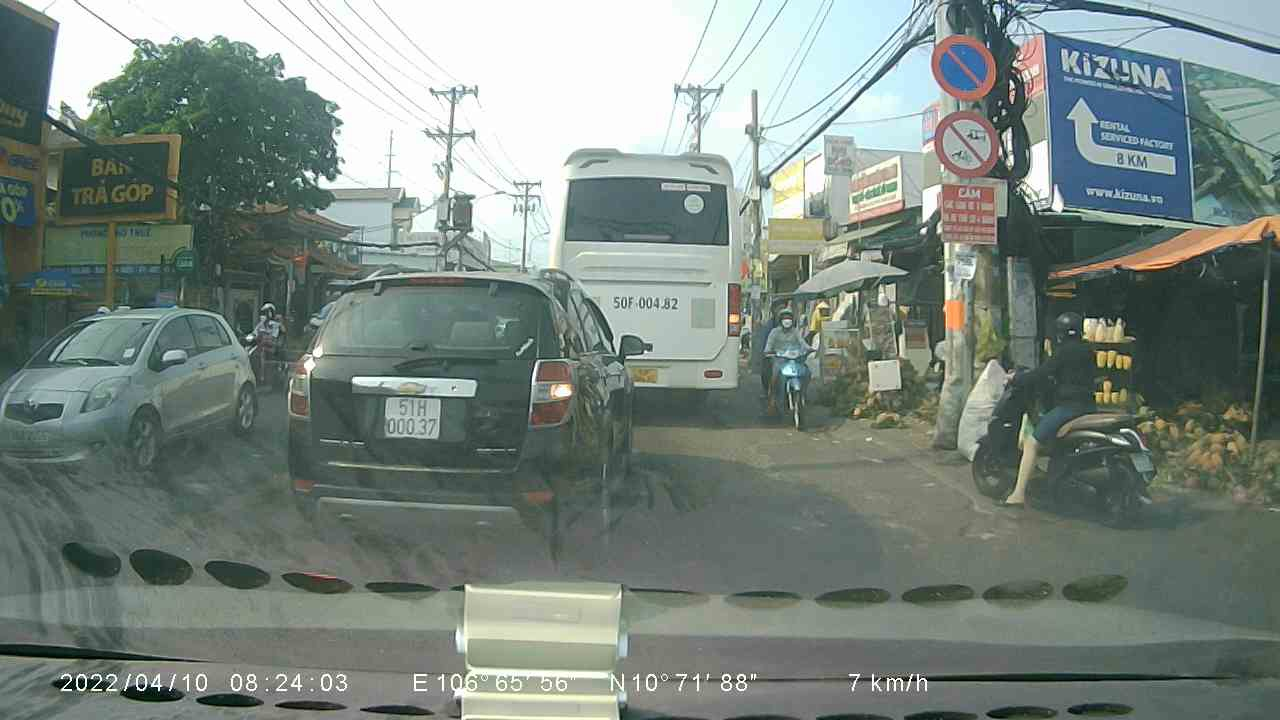Bien khac: (929, 106, 996, 178)
Cam do xe: (926, 33, 1002, 101)
